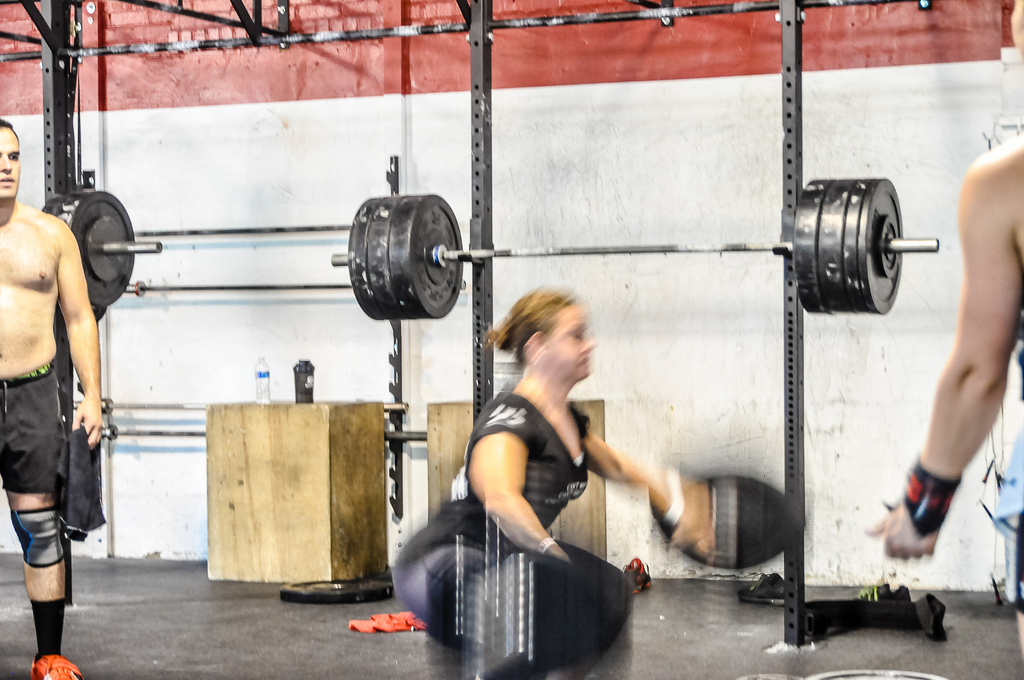Person: (863, 133, 1024, 660)
